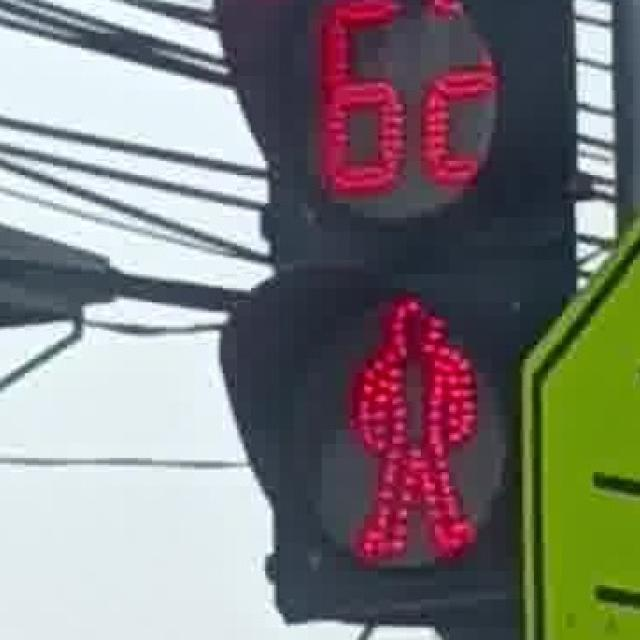red-crossing: (336, 284, 486, 572)
